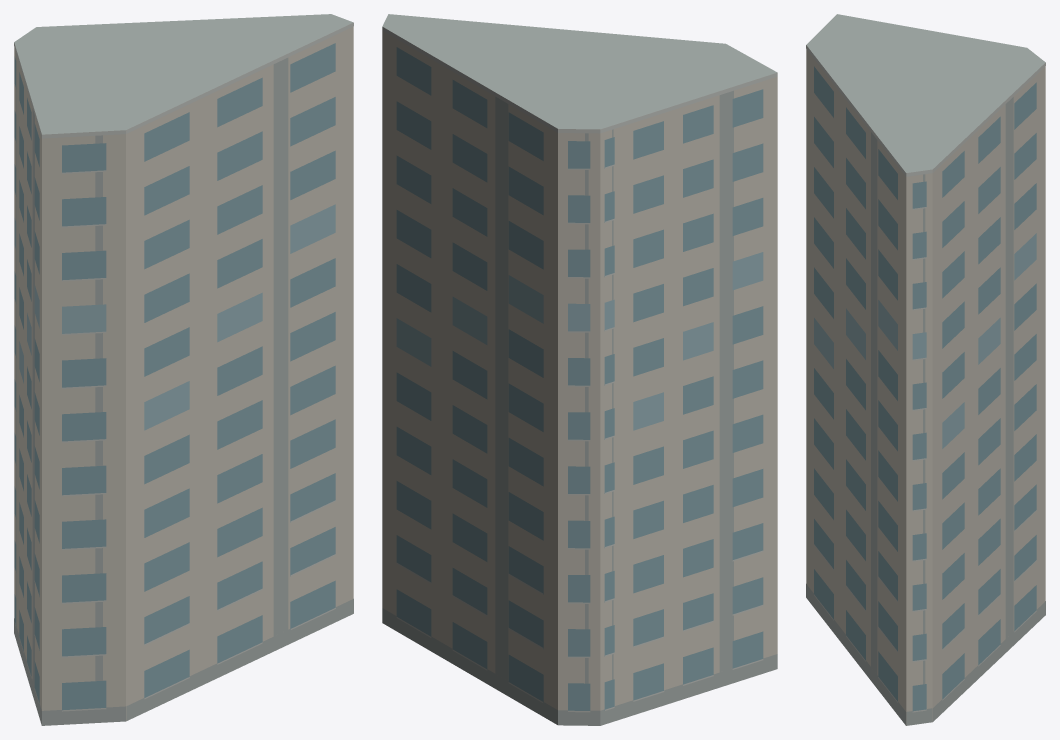
File: residential-88564c3e-219f-4fc4-8159-a74e9ac9229d.glb
The picture shows the model from 3 angles, left to right: view 1: azimuth 30°, elevation 25°; view 2: azimuth 150°, elevation 25°; view 3: azimuth 270°, elevation 25°; orthographic projection. The views are drawn at different scales.
Parts seen in each view (by area): view 1: residential-88564c3e-219f-4fc4-8159-a74e9ac9229d.tmp; view 2: residential-88564c3e-219f-4fc4-8159-a74e9ac9229d.tmp; view 3: residential-88564c3e-219f-4fc4-8159-a74e9ac9229d.tmp.
Part boxes in pixels (x1,y1,x2,y2): residential-88564c3e-219f-4fc4-8159-a74e9ac9229d.tmp: (14, 14, 353, 725); residential-88564c3e-219f-4fc4-8159-a74e9ac9229d.tmp: (382, 14, 777, 725); residential-88564c3e-219f-4fc4-8159-a74e9ac9229d.tmp: (806, 14, 1045, 725).
Size of the model in its own units: 22.24 by 36 by 14.15.
